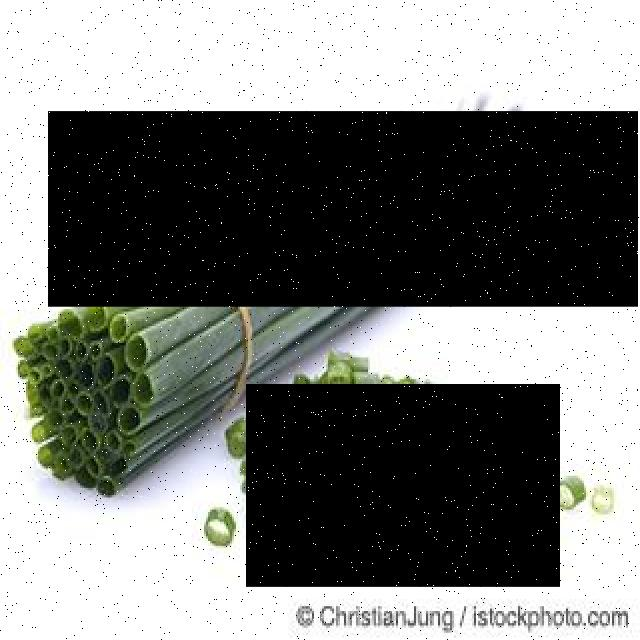Onion_Leaves: (48, 111, 640, 307), (248, 386, 562, 588)
